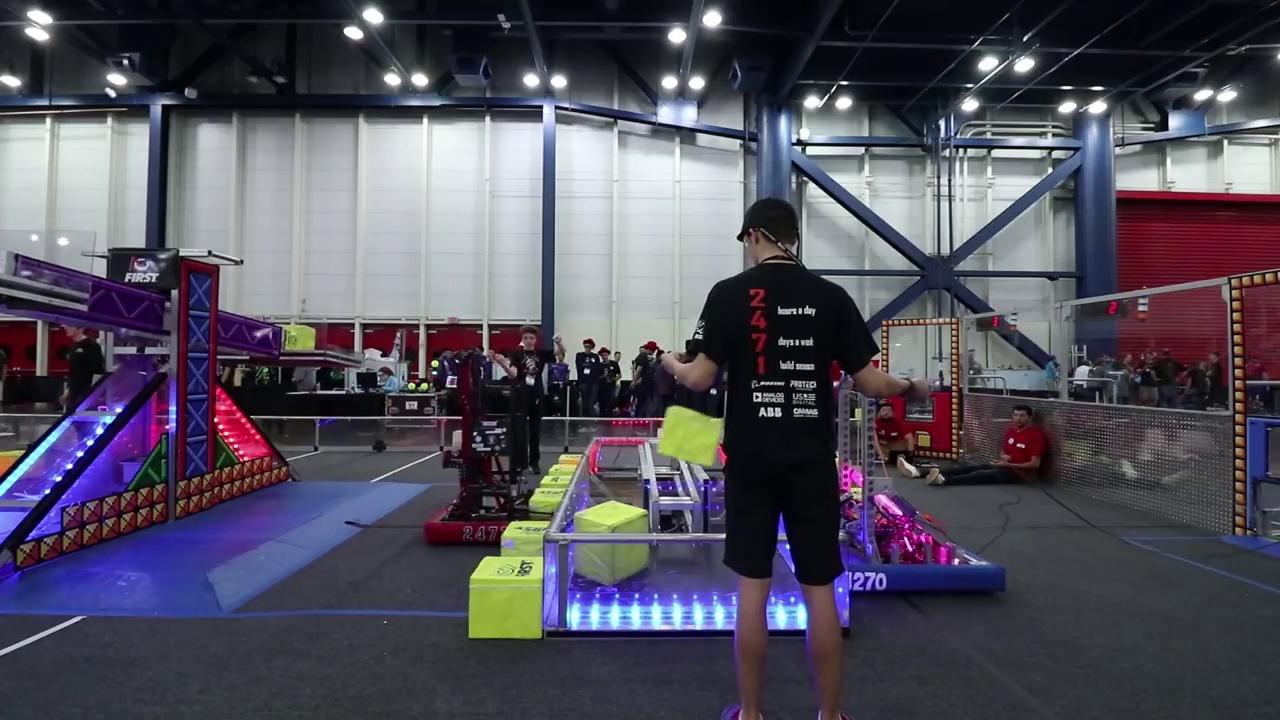robot: (837, 397, 1012, 602), (428, 360, 535, 546)
